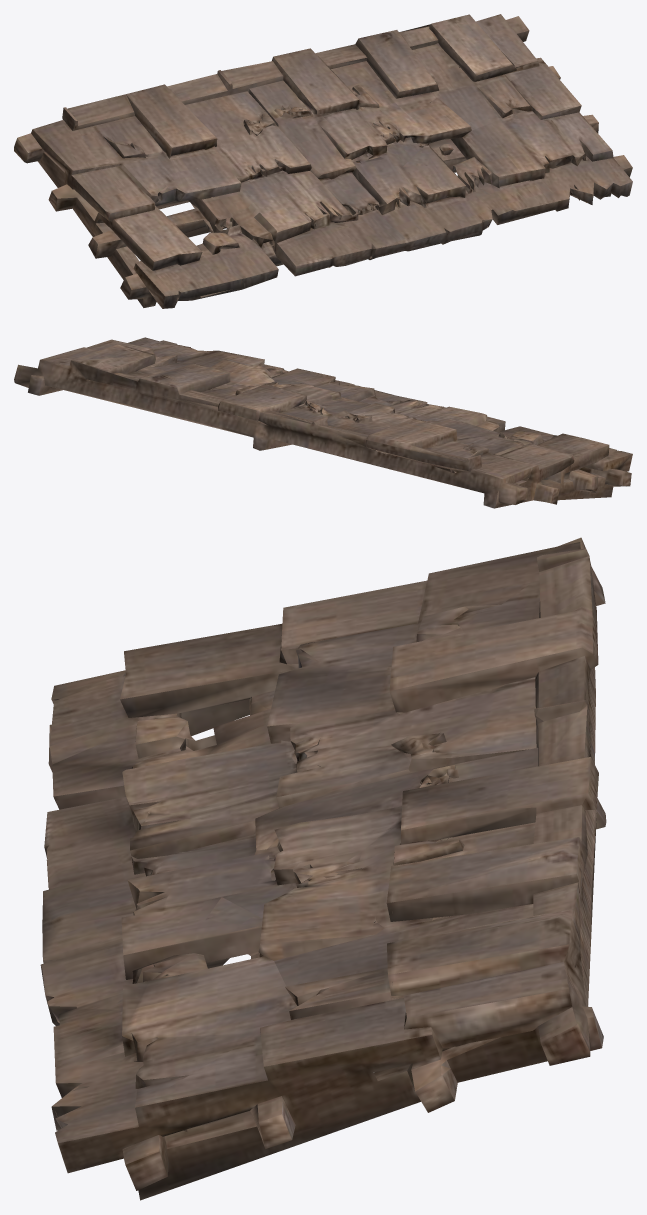
The picture shows the model from 3 angles, top to bottom: view 1: azimuth 30°, elevation 25°; view 2: azimuth 150°, elevation 25°; view 3: azimuth 270°, elevation 25°; orthographic projection. The views are drawn at different scales.
Parts seen in each view (by area): view 1: geometry_0; view 2: geometry_0; view 3: geometry_0.
Boxes of the visible parts, left/top/right/bottom form: geometry_0: left=14, top=14, right=632, bottom=308; geometry_0: left=14, top=337, right=632, bottom=508; geometry_0: left=40, top=537, right=606, bottom=1200.
Size of the model in its own units: 2.4 by 0.521 by 1.17.
Materials: 1 (1 with a texture image).
